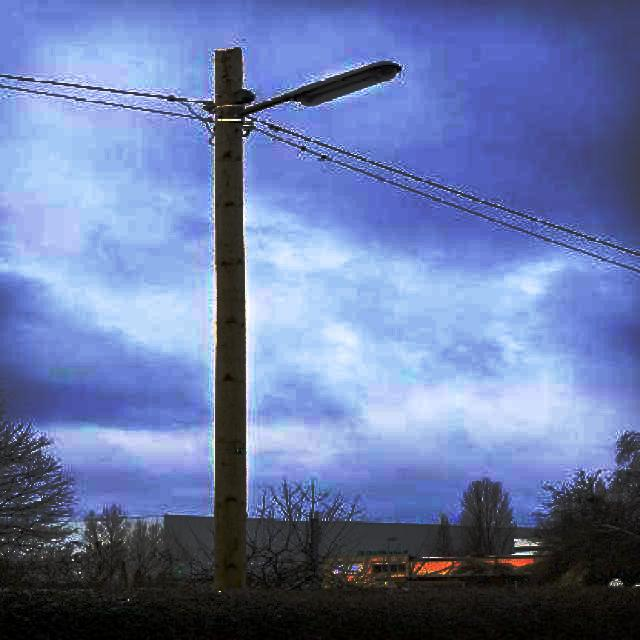poles: (152, 40, 300, 577)
wires: (249, 107, 639, 281), (0, 72, 218, 126)
